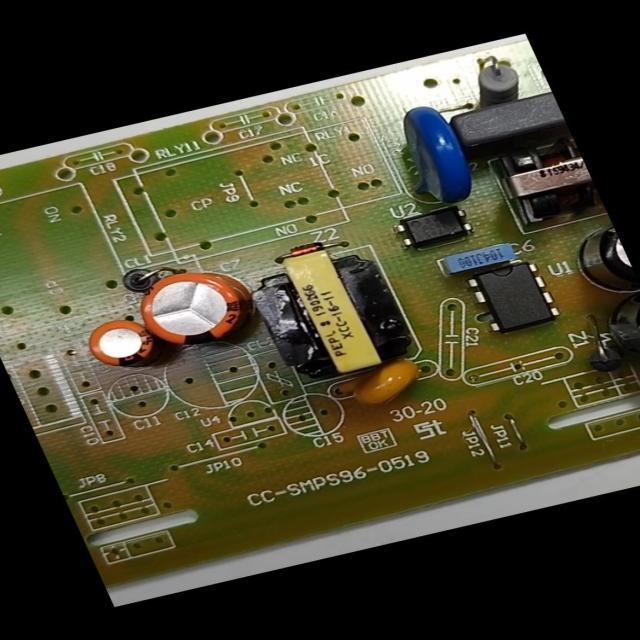Cap1: (117, 252, 268, 363)
Cap2: (64, 302, 176, 386)
Cap3: (555, 212, 639, 310)
Cap4: (592, 291, 640, 380)
MOSFET: (457, 251, 581, 344)
Mov: (378, 95, 489, 211)
Resistor: (462, 49, 536, 107)
Transformer: (227, 232, 438, 394), (480, 132, 606, 232)
